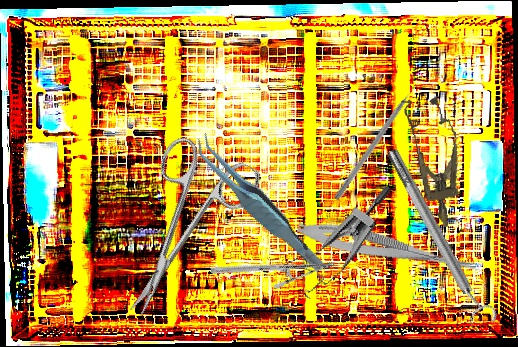Fixation Ring: (378, 142, 501, 334)
Iris Scissors: (89, 126, 266, 336)
Micro Scissor: (295, 216, 486, 278)
Needle Holder: (209, 210, 337, 325)
Pusher: (332, 77, 424, 203)
Speculum: (274, 160, 394, 312), (400, 92, 471, 232)
Tissue Forceps: (191, 115, 327, 293)
